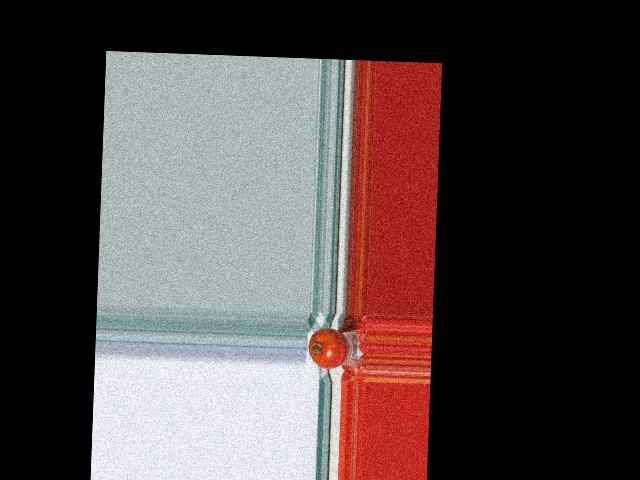tomato: (307, 327, 348, 370)
